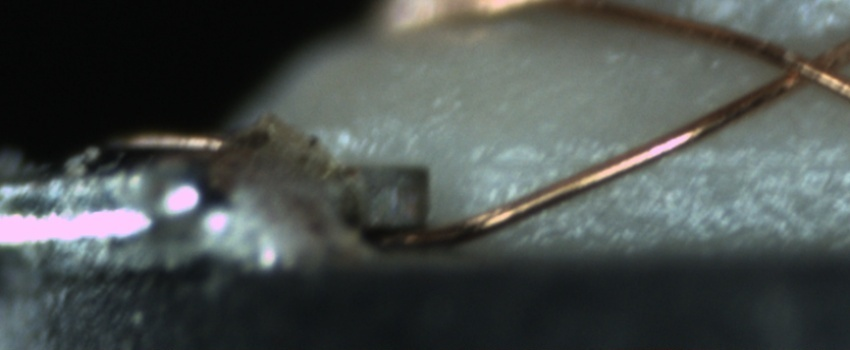CL: (761, 38, 844, 99)
DL: (480, 133, 849, 194)
TE: (92, 131, 240, 156)
